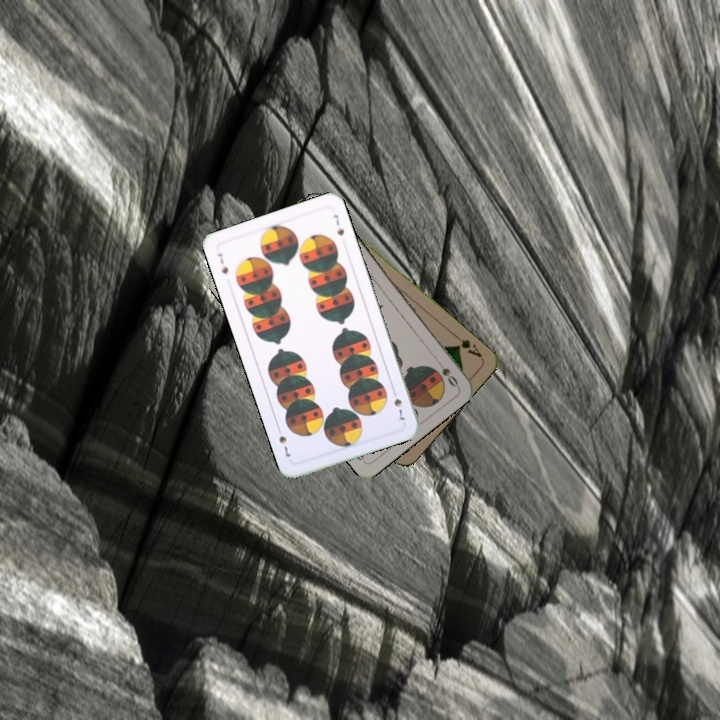GA: (451, 331, 484, 360)
S7: (388, 385, 408, 423), (213, 249, 231, 277)
SO: (431, 355, 461, 390)
